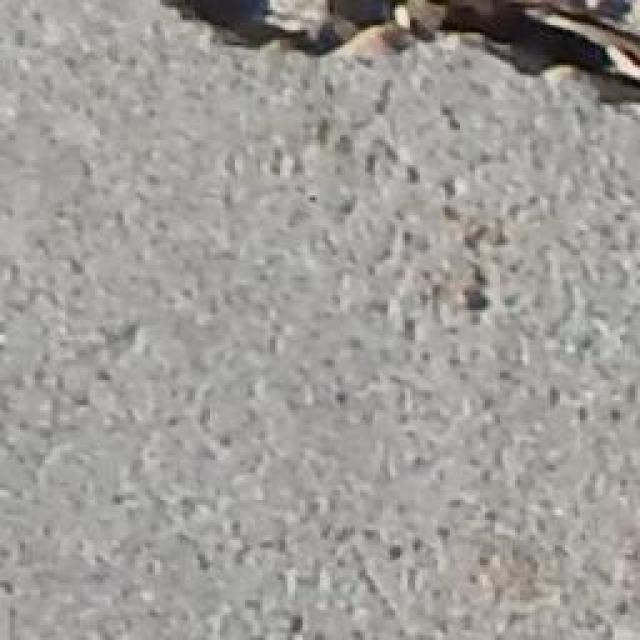concrete-crack: (160, 1, 640, 114)
